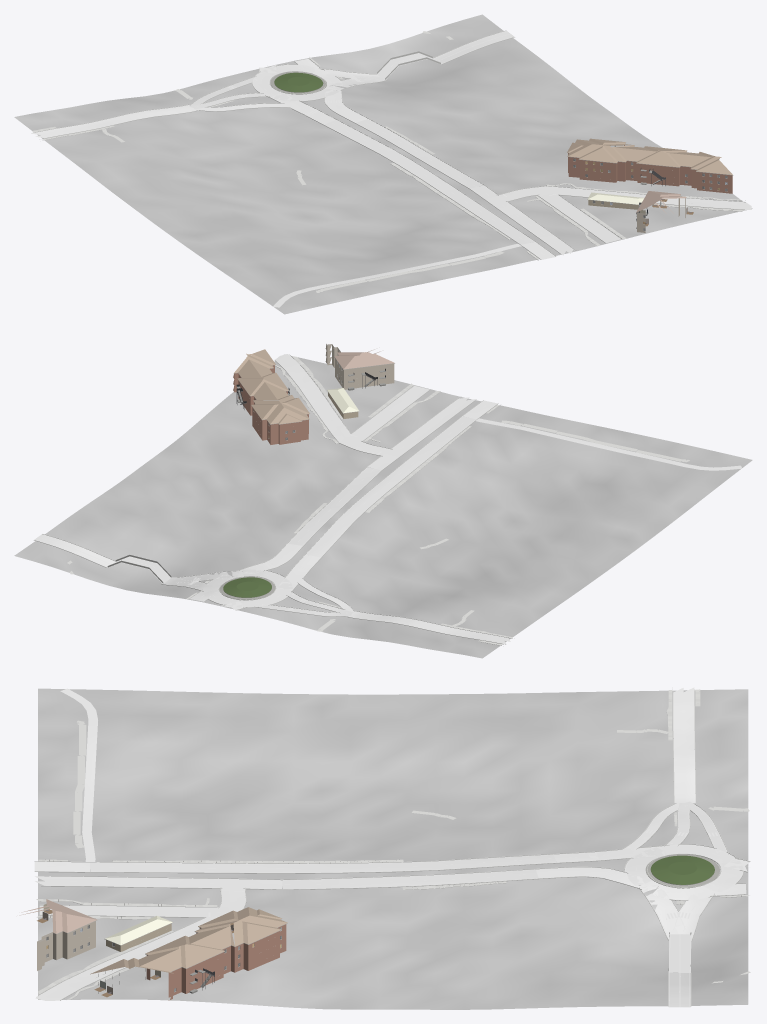
3 views of the same model, one above another, from view 1: azimuth 30°, elevation 25°; view 2: azimuth 150°, elevation 25°; view 3: azimuth 270°, elevation 25° (orthographic). The views are drawn at different scales.
Visible parts, largest first — view 1: ground, asphalt, roof, concrete, wall, curb, walk, detail, mark_w; view 2: ground, asphalt, concrete, roof, wall, curb, walk, detail, mark_w; view 3: ground, asphalt, roof, concrete, curb, wall, walk, detail, mark_w, mark_y.
Boxes of the visible parts, x1=… form: ground: x1=14, y1=14, x2=752, y2=314; asphalt: x1=31, y1=30, x2=573, y2=259; roof: x1=567, y1=138, x2=732, y2=213; concrete: x1=273, y1=186, x2=751, y2=307; wall: x1=568, y1=145, x2=732, y2=232; curb: x1=33, y1=30, x2=745, y2=260; walk: x1=32, y1=31, x2=744, y2=292; detail: x1=270, y1=71, x2=733, y2=231; mark_w: x1=194, y1=32, x2=573, y2=259; ground: x1=14, y1=354, x2=752, y2=658; asphalt: x1=34, y1=397, x2=510, y2=644; concrete: x1=275, y1=354, x2=742, y2=470; roof: x1=234, y1=349, x2=394, y2=424; wall: x1=233, y1=344, x2=394, y2=444; curb: x1=34, y1=354, x2=512, y2=645; walk: x1=67, y1=356, x2=689, y2=645; detail: x1=219, y1=344, x2=394, y2=599; mark_w: x1=37, y1=398, x2=497, y2=611; ground: x1=38, y1=688, x2=748, y2=1009; asphalt: x1=34, y1=687, x2=749, y2=1007; roof: x1=19, y1=899, x2=287, y2=974; concrete: x1=35, y1=688, x2=245, y2=1000; curb: x1=34, y1=687, x2=750, y2=1006; wall: x1=37, y1=921, x2=286, y2=1000; walk: x1=36, y1=689, x2=750, y2=999; detail: x1=38, y1=854, x2=719, y2=994; mark_w: x1=36, y1=806, x2=743, y2=1006; mark_y: x1=35, y1=809, x2=745, y2=1006.
Bounding box in the file's own units: 254 × 23.5 × 260.
